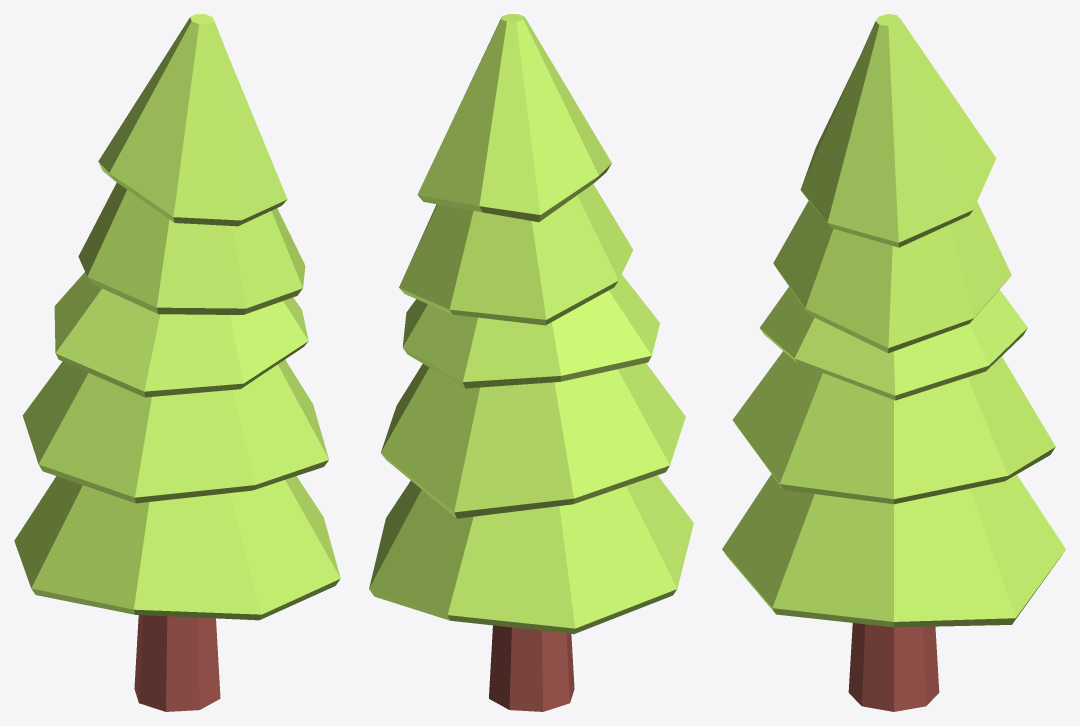
File: Tree2_autumn.FBX
3 views of the same model, side by side, from view 1: azimuth 30°, elevation 25°; view 2: azimuth 150°, elevation 25°; view 3: azimuth 270°, elevation 25° (orthographic). The views are drawn at different scales.
Visible parts, largest first — view 1: Tree 2 autumn; view 2: Tree 2 autumn; view 3: Tree 2 autumn.
Boxes of the visible parts, left/top/right/bottom form: Tree 2 autumn: left=14, top=14, right=340, bottom=711; Tree 2 autumn: left=369, top=14, right=693, bottom=711; Tree 2 autumn: left=722, top=14, right=1065, bottom=711.
Bounding box in the file's own units: 3.26 × 7.15 × 3.26.
